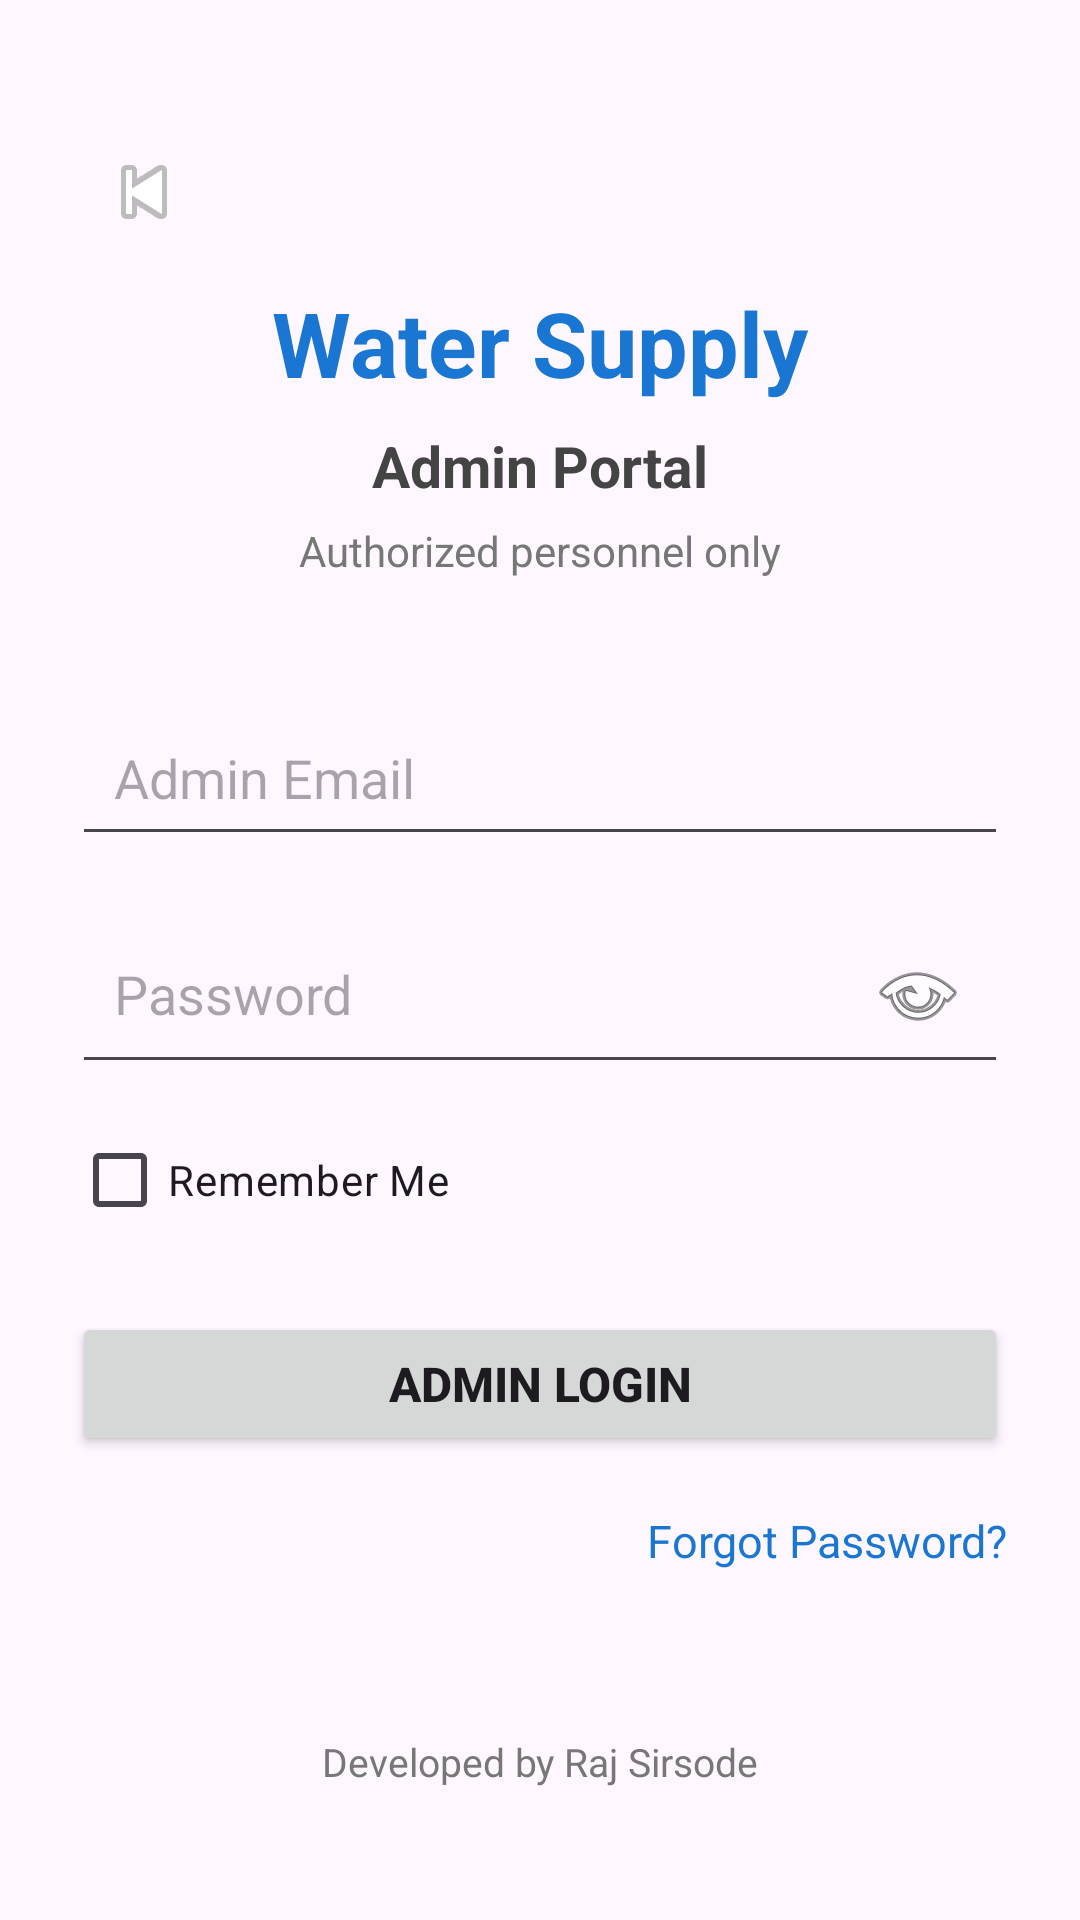

Icon bounding boxes for this 1080w x 1920h phone screenshot, format (x1, y1, x2, y2):
Back: (121, 165, 167, 219)
